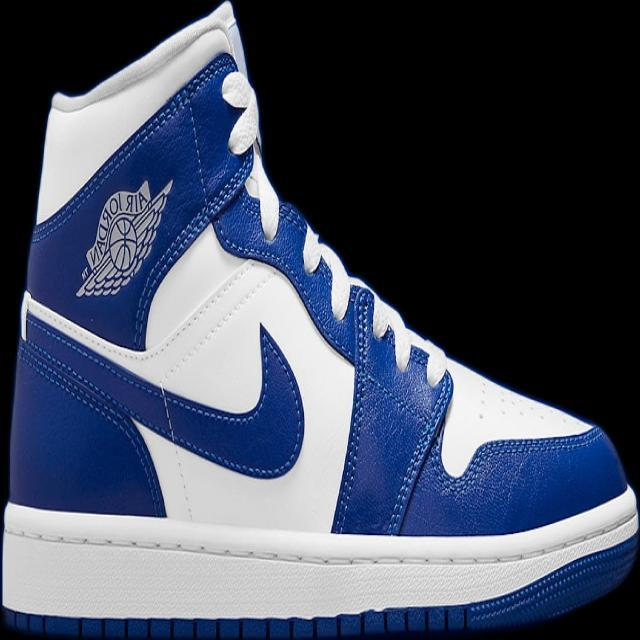J1_InsoleChar: (1, 2, 637, 636)
J1_ShoeLogo: (74, 176, 174, 299)
J1_StitchPattern: (2, 498, 637, 631), (216, 64, 448, 390), (16, 258, 303, 480), (2, 510, 637, 574), (15, 315, 195, 521), (330, 281, 453, 533), (148, 257, 273, 386), (3, 605, 472, 637), (16, 333, 141, 447), (382, 366, 454, 535), (329, 284, 375, 534), (218, 67, 283, 242), (154, 381, 197, 523), (218, 68, 262, 157)
